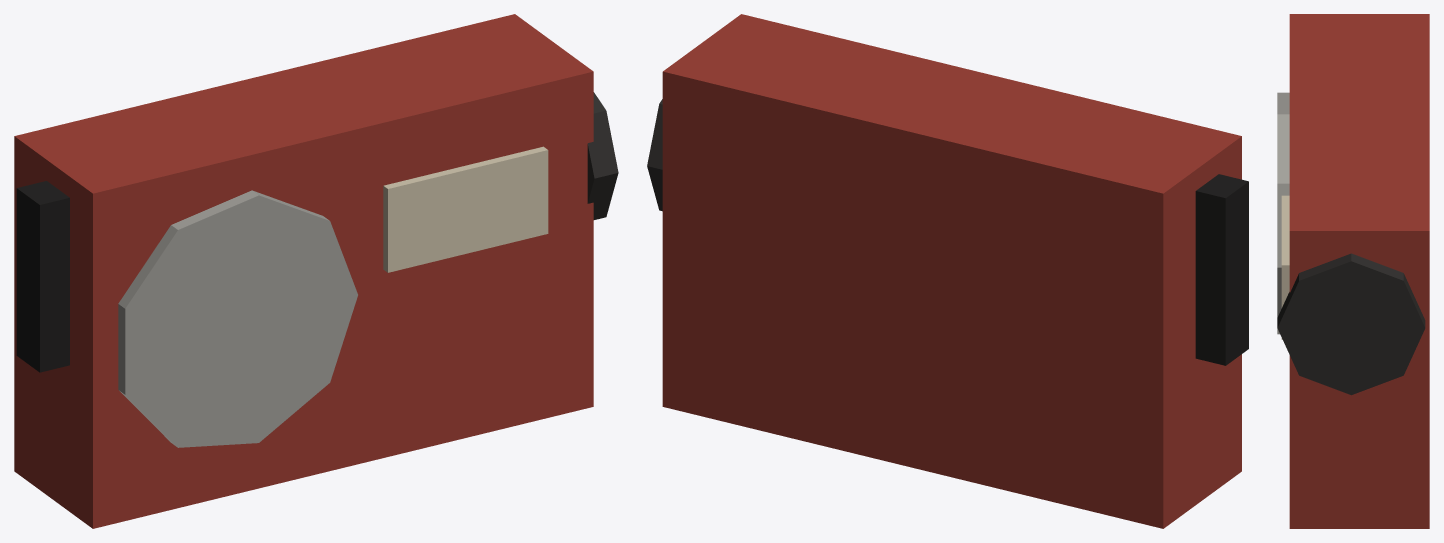
Rendered from transistor-radio.glb.
3 renders of one model, left to right at view 1: azimuth 30°, elevation 25°; view 2: azimuth 150°, elevation 25°; view 3: azimuth 270°, elevation 25°, orthographic. The views are drawn at different scales.
Parts seen in each view (by area): view 1: accent-warm, brushed, paper, rubber, plastic-dark; view 2: accent-warm, rubber, plastic-dark; view 3: accent-warm, plastic-dark, brushed, paper.
Boxes of the visible parts, x1,y1,x2,y2 form: accent-warm: (14,14,593,528); brushed: (118,190,357,447); paper: (383,146,548,272); rubber: (16,181,69,372); plastic-dark: (587,92,618,219); accent-warm: (662,14,1241,528); rubber: (1195,174,1248,365); plastic-dark: (647,99,662,211); accent-warm: (1289,14,1429,528); plastic-dark: (1277,253,1425,395); brushed: (1277,92,1289,334); paper: (1281,195,1289,339).
Bounding box in the file's own units: 0.137 × 0.08 × 0.037.
